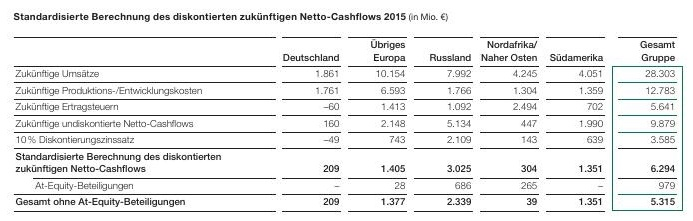table: (0, 0, 693, 221)
